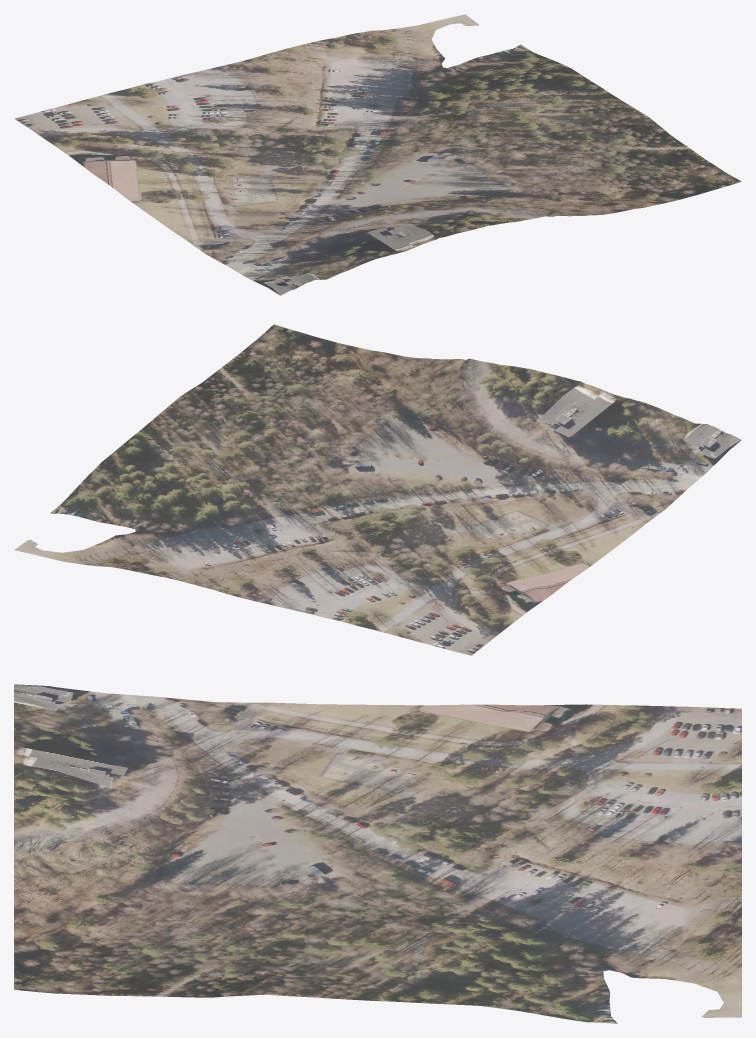
File: CM_Terrain_24488410_6822660.fbx
3 views of the same model, one above another, from view 1: azimuth 30°, elevation 25°; view 2: azimuth 150°, elevation 25°; view 3: azimuth 270°, elevation 25° (orthographic). The views are drawn at different scales.
Parts seen in each view (by area): view 1: CM_Terrain_24488410_6822660_LOD0; view 2: CM_Terrain_24488410_6822660_LOD0; view 3: CM_Terrain_24488410_6822660_LOD0.
Part boxes in pixels (x1,y1,x2,y2): CM_Terrain_24488410_6822660_LOD0: (14, 14, 741, 295); CM_Terrain_24488410_6822660_LOD0: (14, 324, 741, 655); CM_Terrain_24488410_6822660_LOD0: (14, 684, 741, 1023).
Size of what is drawn, in the model's own units: 205 by 18.42 by 205.
